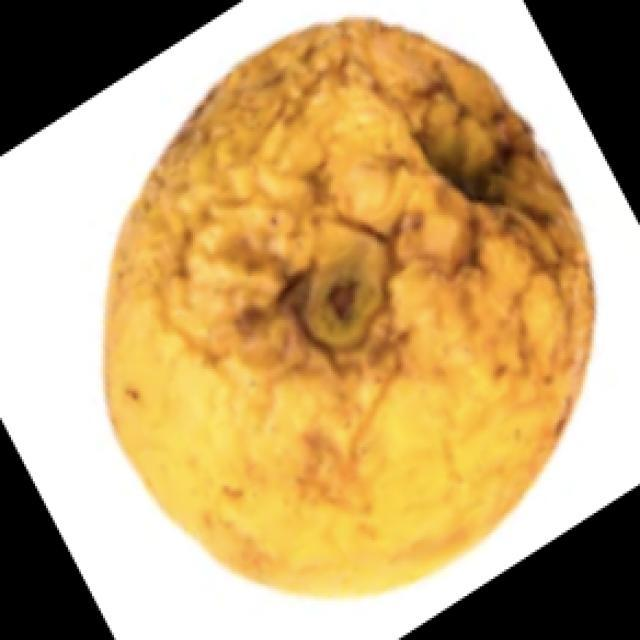Rotten: (118, 20, 602, 615)
